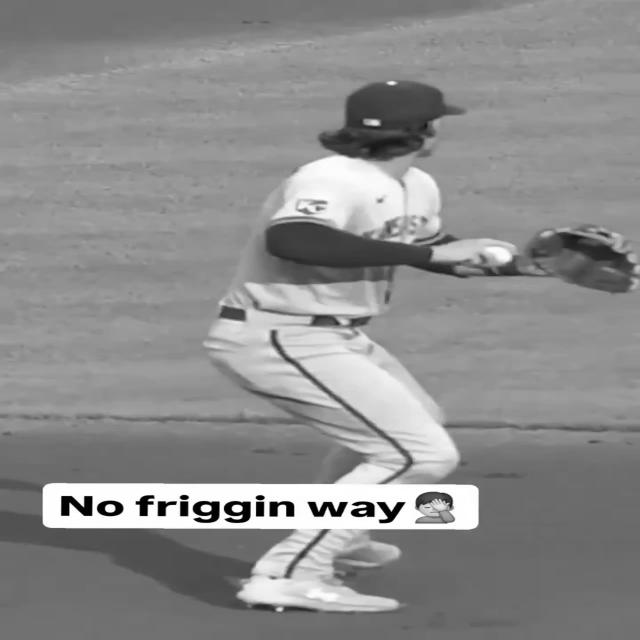baseball: (485, 246, 513, 265)
baseball_glove: (525, 225, 640, 292)
shoe: (238, 575, 400, 612), (333, 540, 400, 569)
